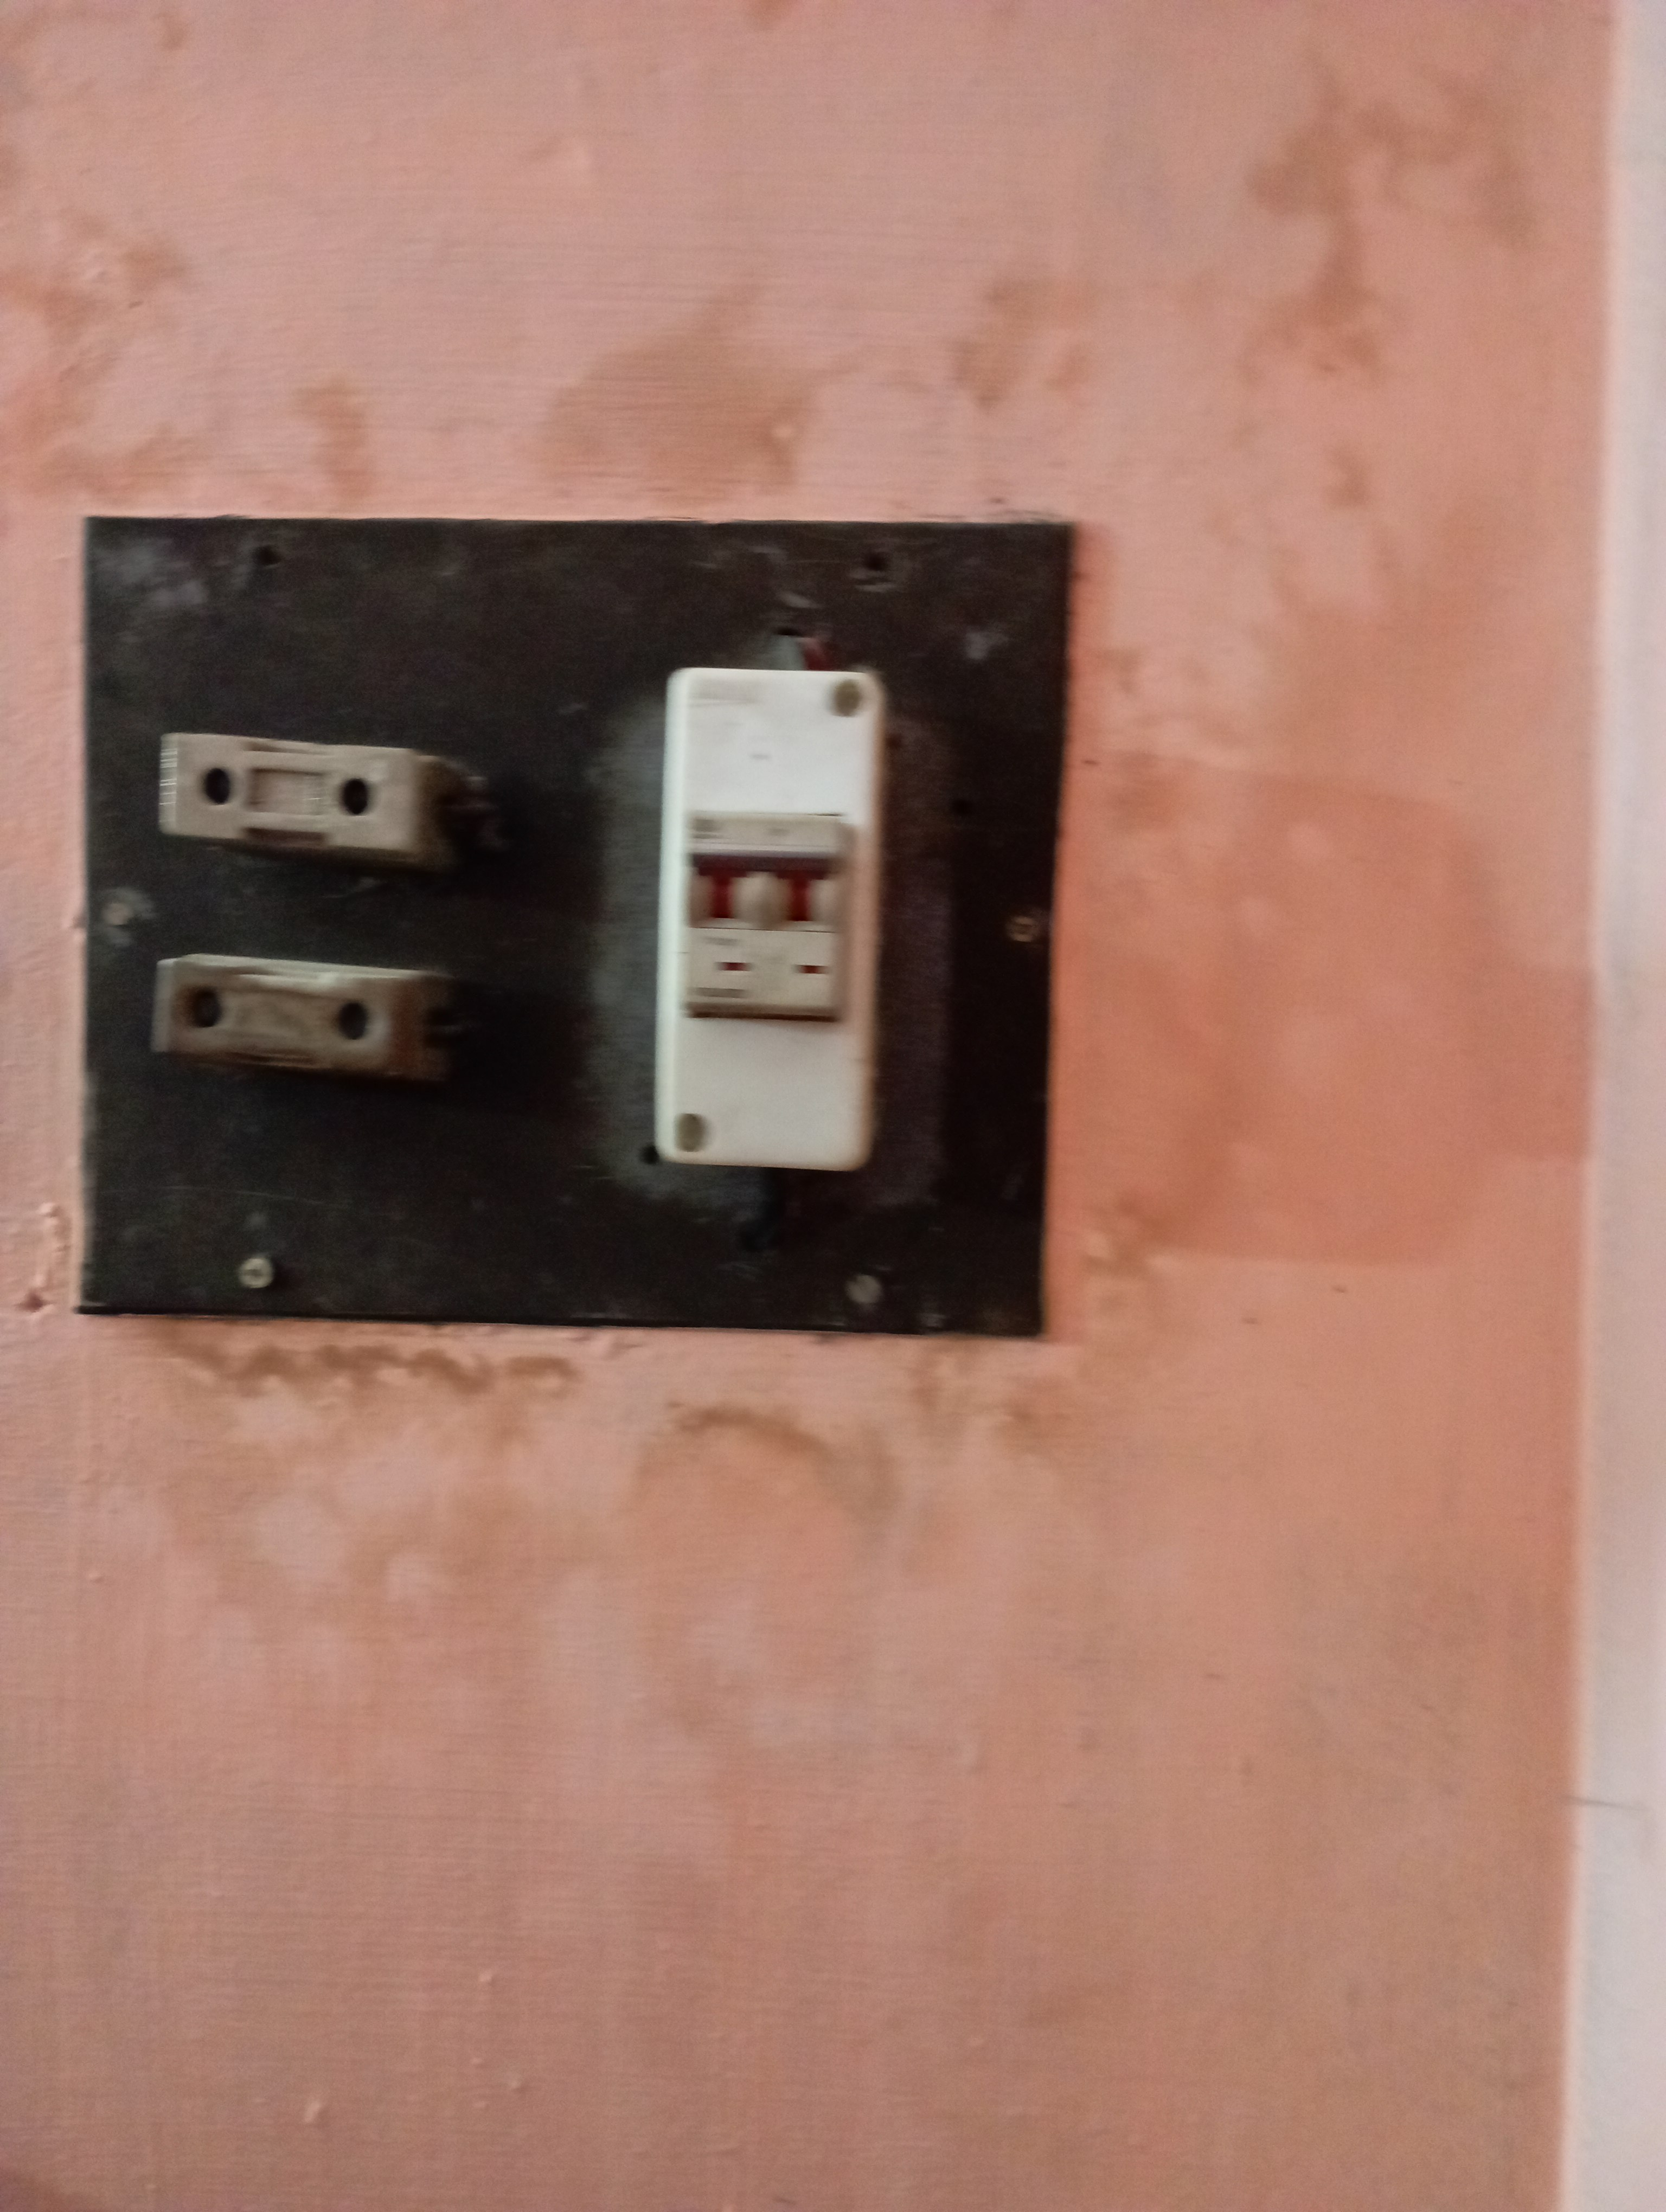ciruit_breaker: (630, 638, 903, 1200)
fuse: (145, 719, 459, 873), (150, 939, 450, 1070)
